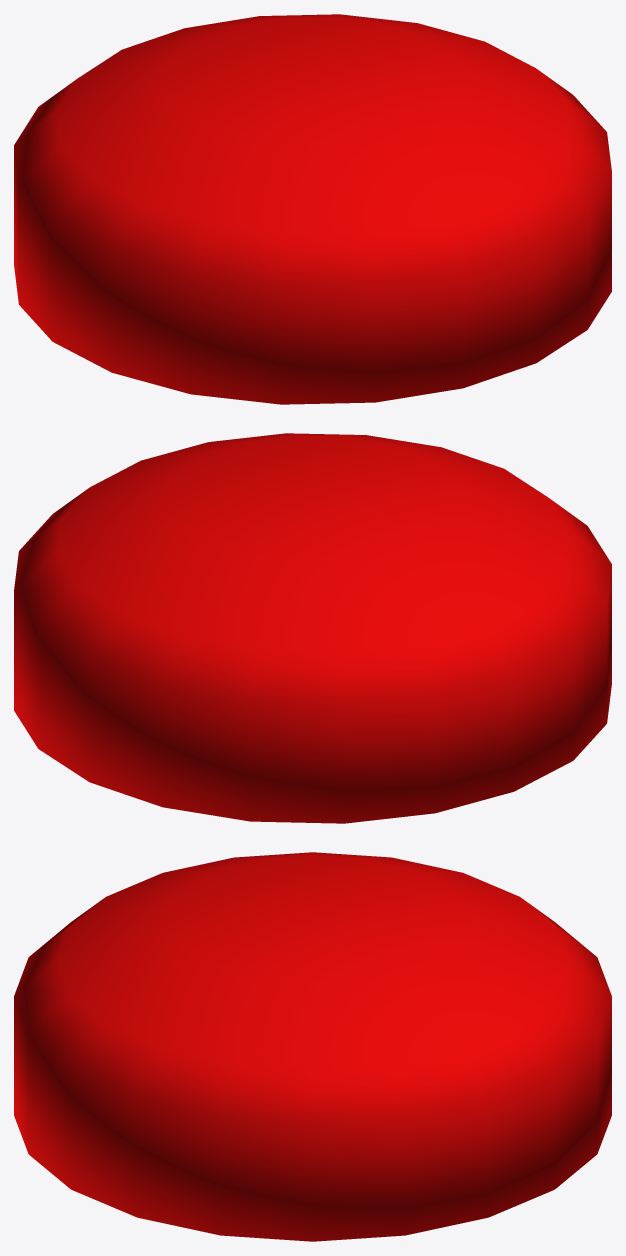
File: EmergencyButtonButton.fbx
3 renders of one model, top to bottom at view 1: azimuth 30°, elevation 25°; view 2: azimuth 150°, elevation 25°; view 3: azimuth 270°, elevation 25°, orthographic.
Visible parts, largest first — view 1: pCylinder2; view 2: pCylinder2; view 3: pCylinder2.
Part boxes in pixels (x1,y1,x2,y2): pCylinder2: [14, 14, 611, 404]; pCylinder2: [14, 433, 611, 823]; pCylinder2: [14, 852, 611, 1241].
Bounding box in the file's own units: 1.14 × 0.4122 × 1.14.
